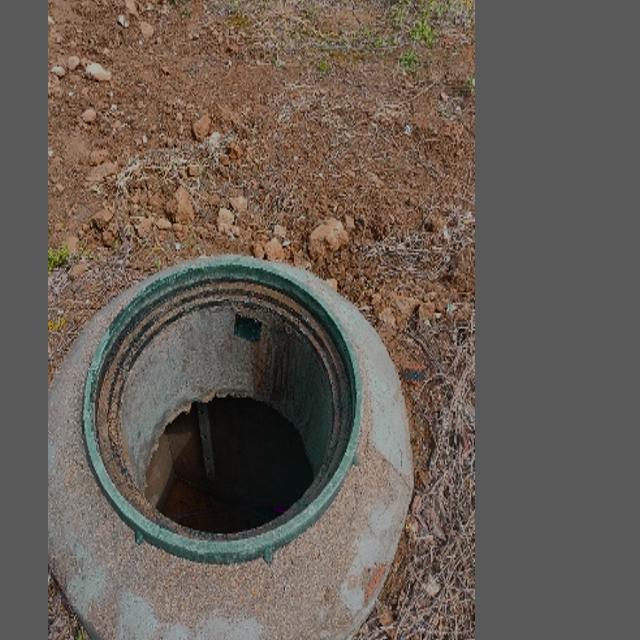lose: (83, 256, 361, 566)
